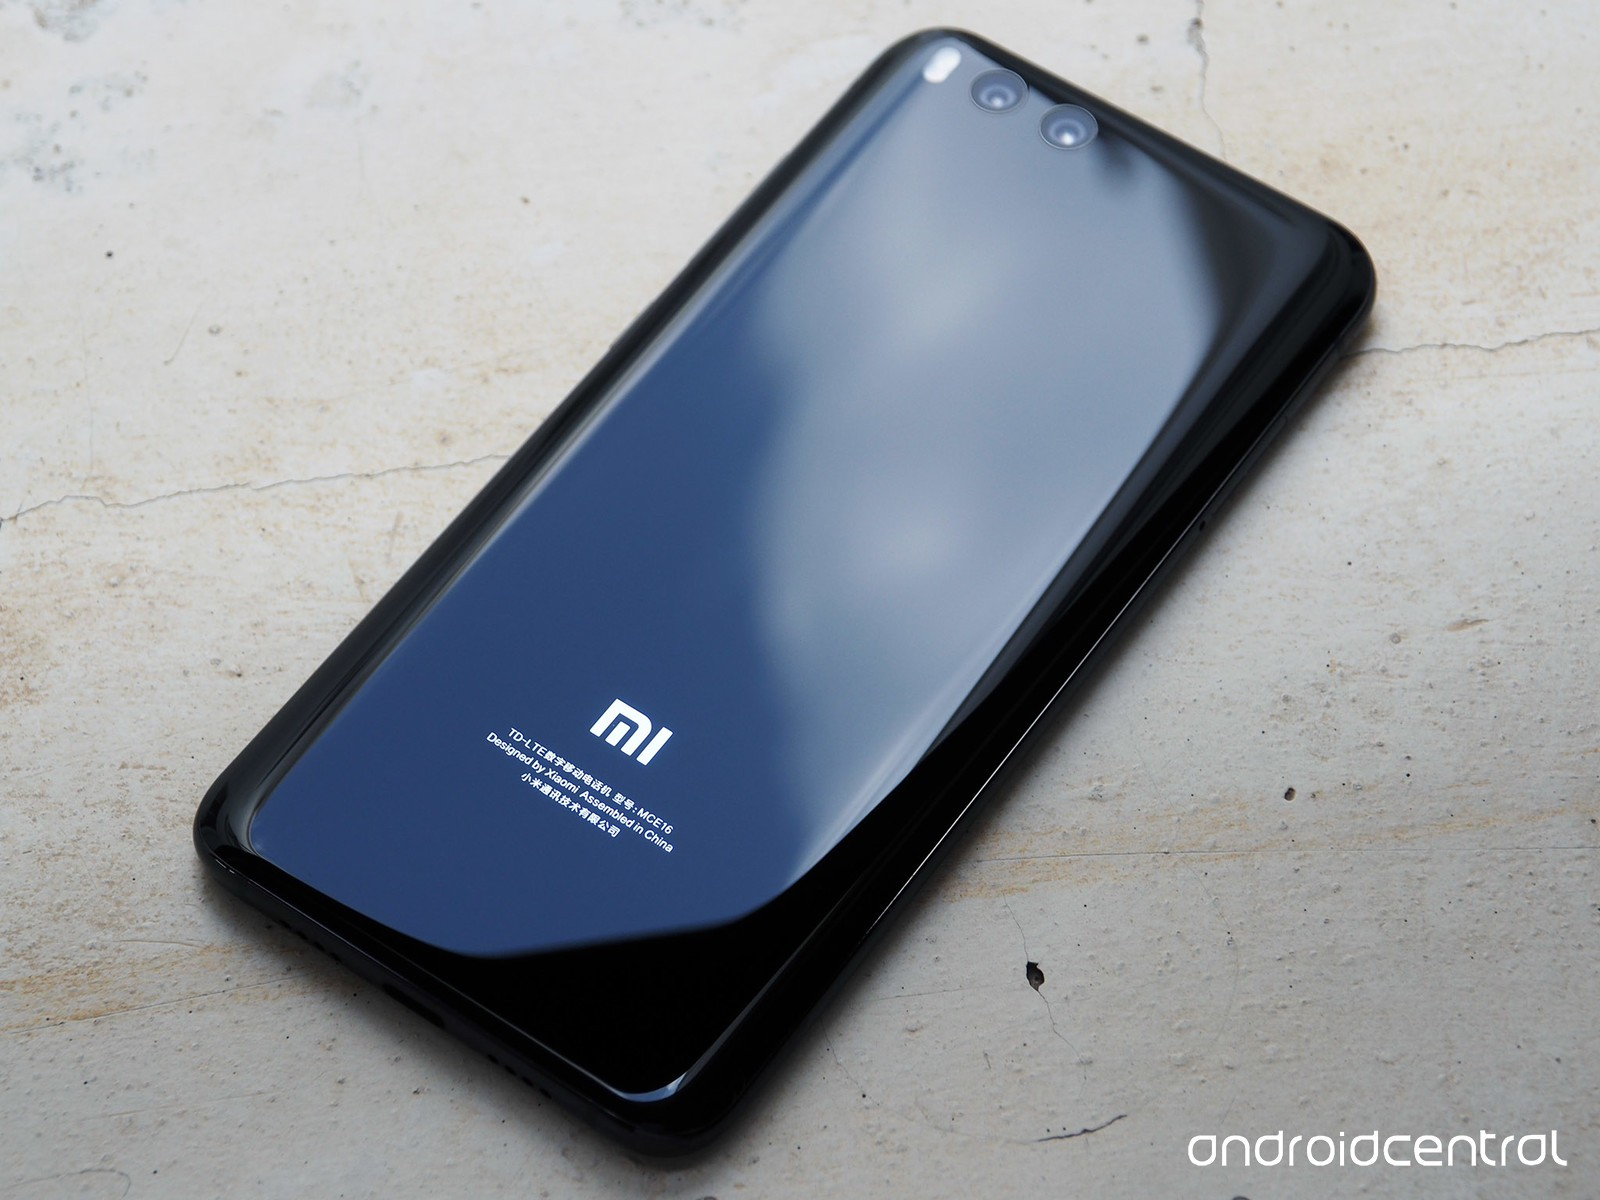smartphone: (191, 26, 1380, 1168)
